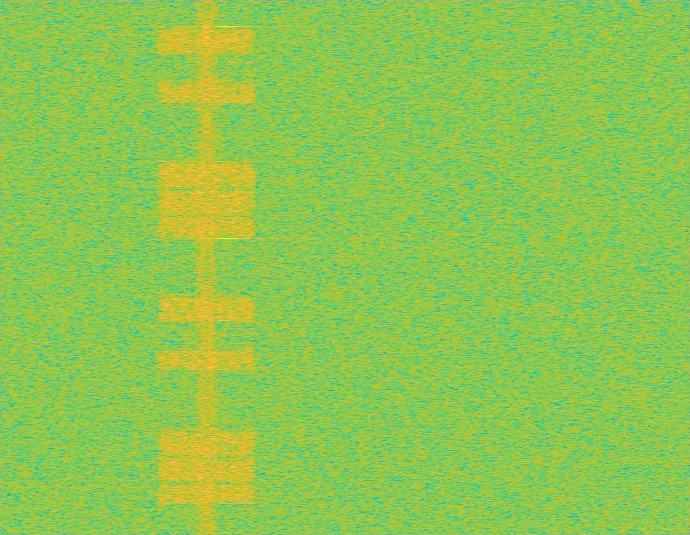DSSS: (195, 0, 218, 534)
LTE: (155, 0, 259, 534)
Radar: (220, 0, 234, 534)
